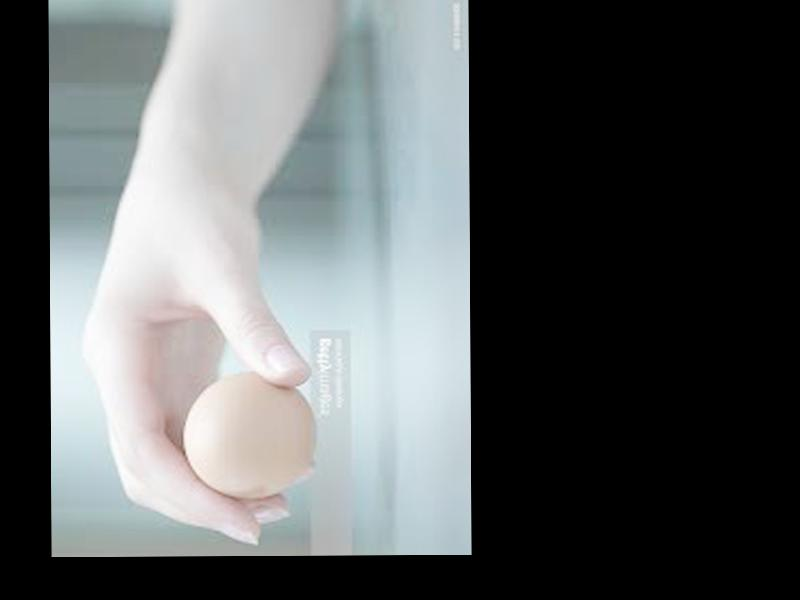Eggs: (181, 369, 319, 498)
